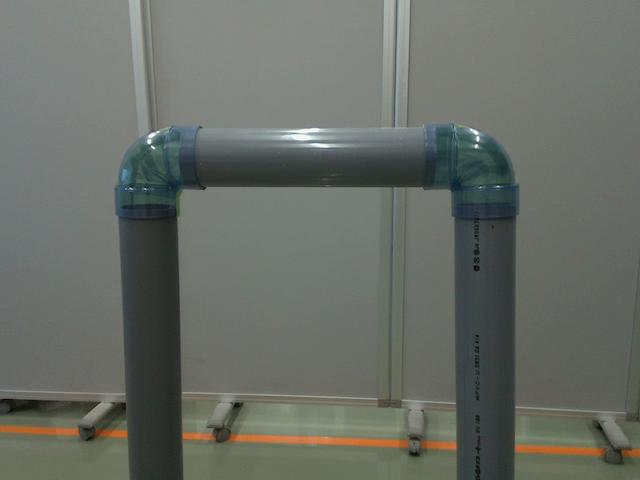bent: (423, 123, 520, 221), (116, 123, 204, 219)
